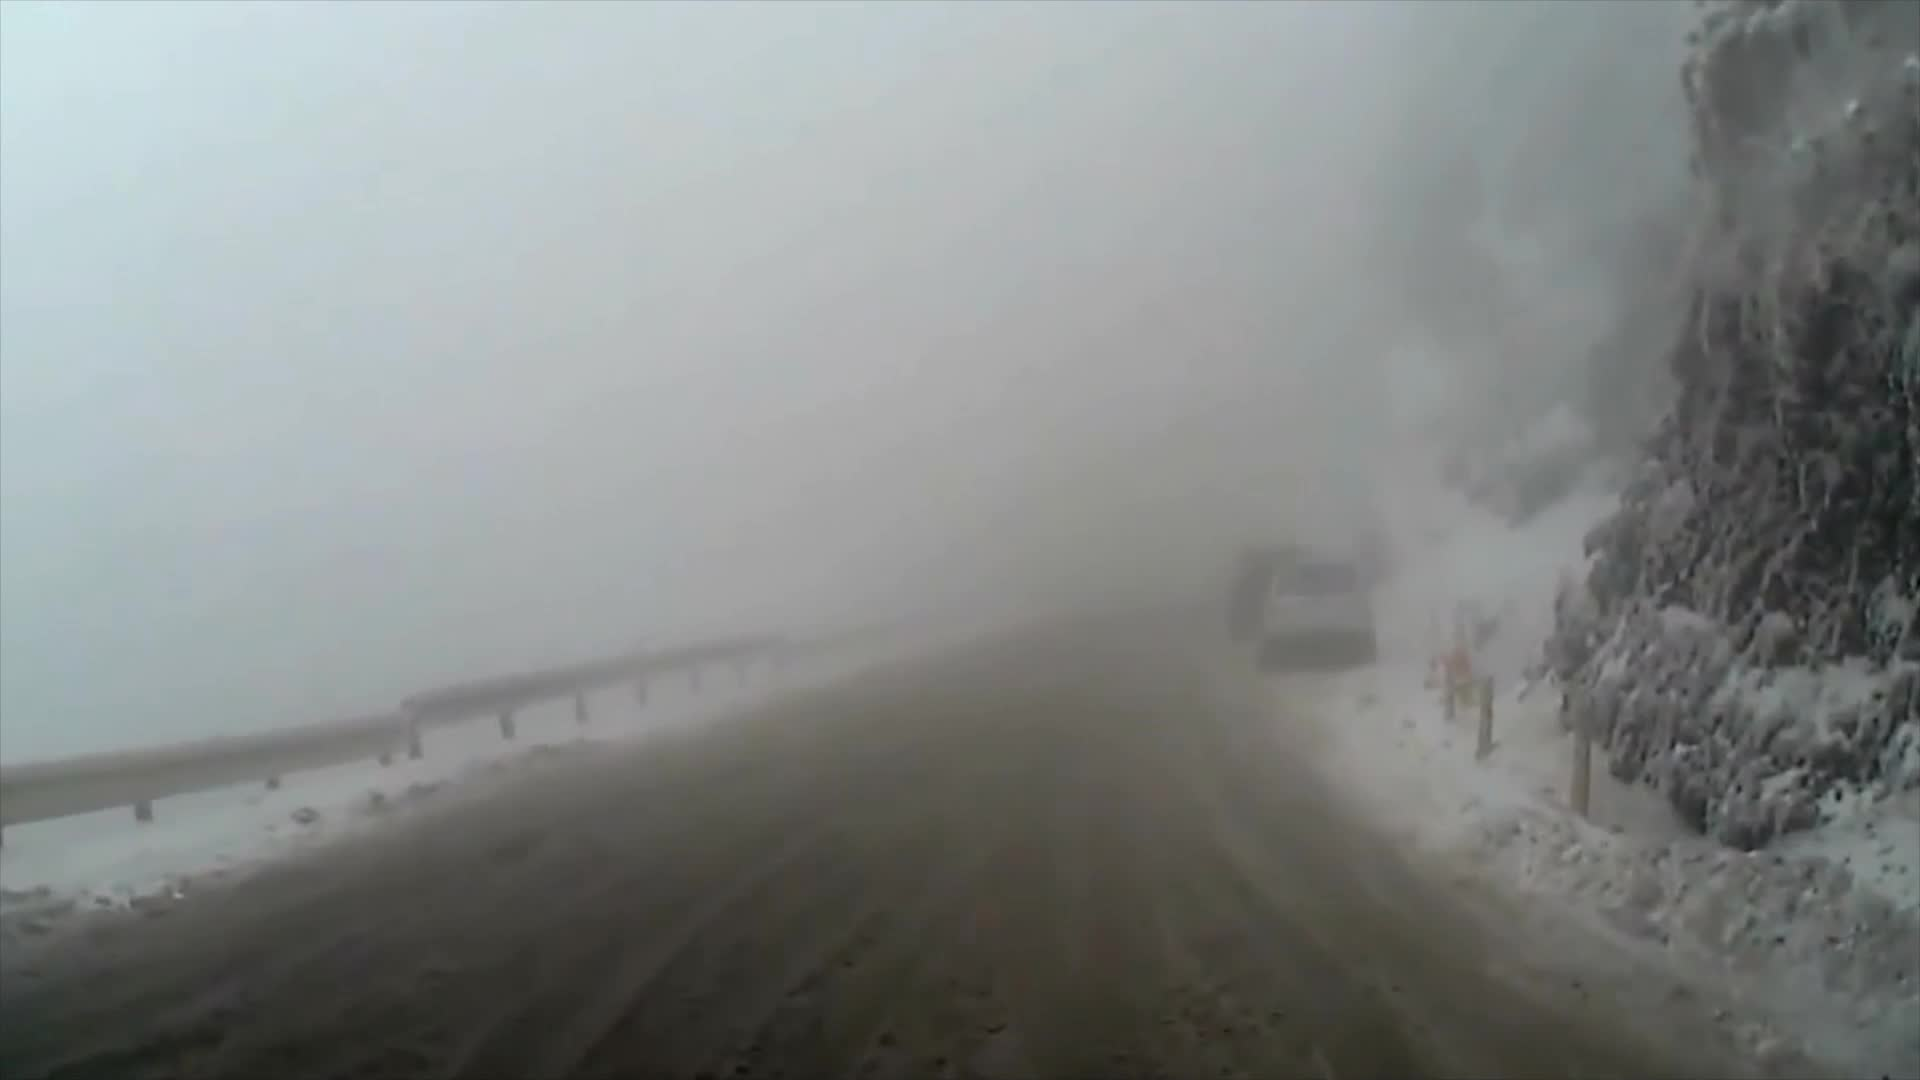vehicle: (1255, 553, 1375, 669)
